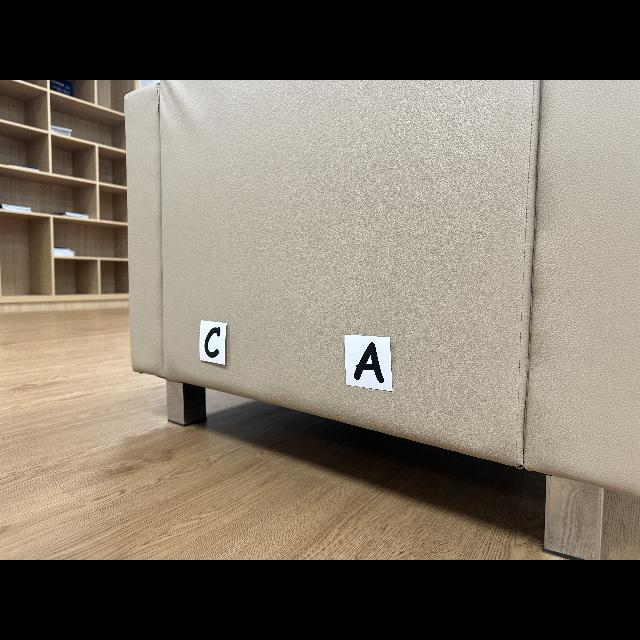A: (354, 342, 384, 382)
C: (204, 328, 220, 358)
